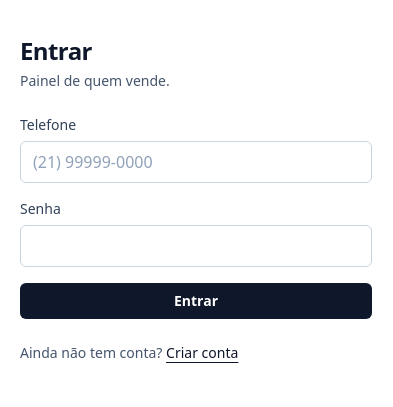
Test: EntrarPage › campo vazio não sai do navegador
Click the button "Entrar" at coordinates (196, 301), box [20,283,372,319]
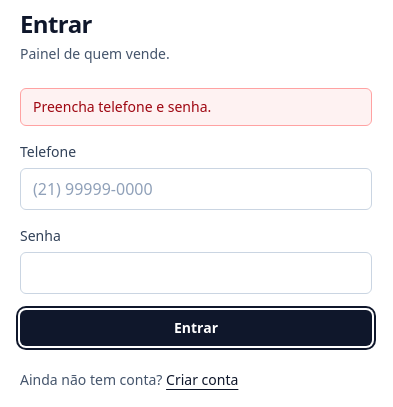
Expected: the message "Preencha telefone e senha." is shown, [20,88,372,126]
